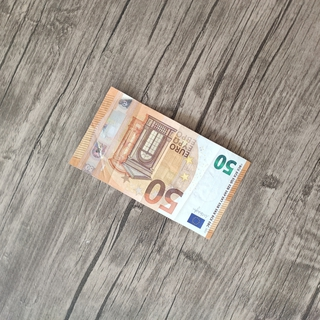50EUROFront: (66, 84, 252, 242)
